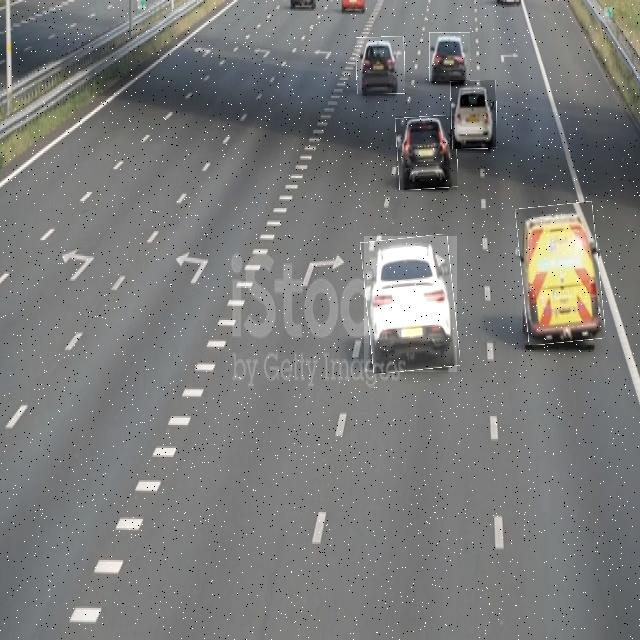Car: (364, 236, 457, 372), (396, 116, 457, 190), (451, 80, 496, 149), (357, 37, 405, 94), (429, 32, 470, 81)
Truck: (519, 203, 602, 344)
